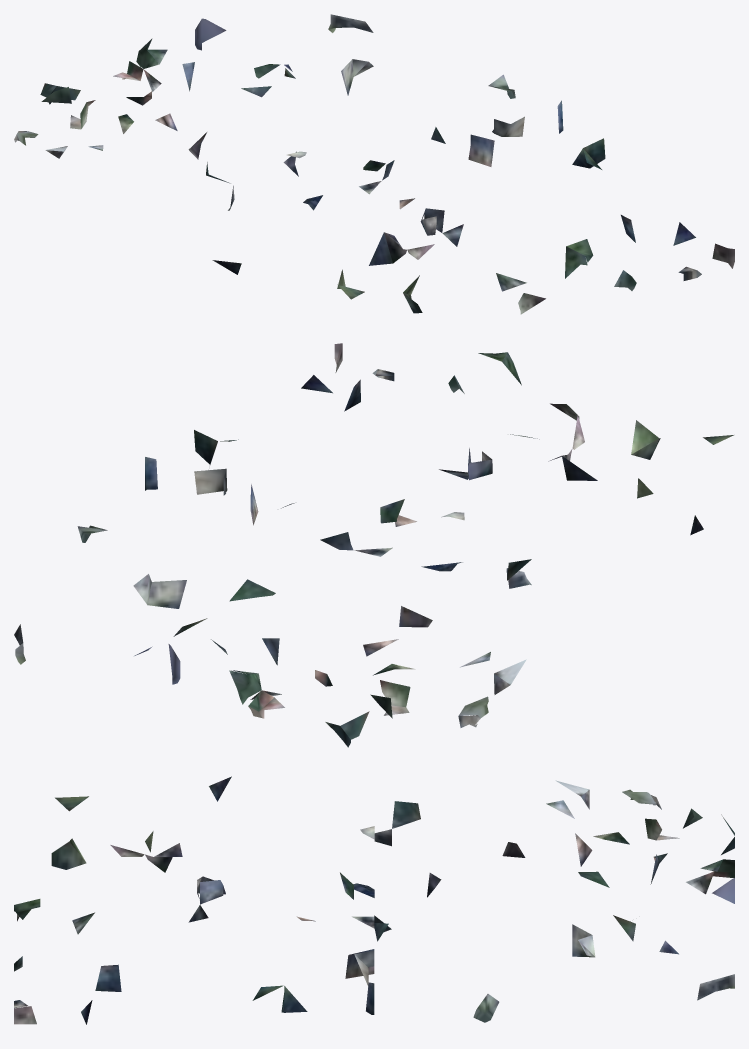
The picture shows the model from 3 angles, top to bottom: view 1: azimuth 30°, elevation 25°; view 2: azimuth 150°, elevation 25°; view 3: azimuth 270°, elevation 25°; orthographic projection. The views are drawn at different scales.
Visible parts, largest first — view 1: 304362727043614254_1; view 2: 304362727043614254_1; view 3: 304362727043614254_1.
Boxes of the visible parts, x1,y1,x2,y2 form: 304362727043614254_1: (14, 14, 734, 314); 304362727043614254_1: (14, 343, 733, 747); 304362727043614254_1: (14, 776, 734, 1024).
Size of the model in its own units: 110 by 14.79 by 153.
Materials: 1 (1 with a texture image).
